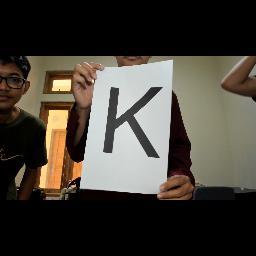k: (104, 75, 164, 165)
